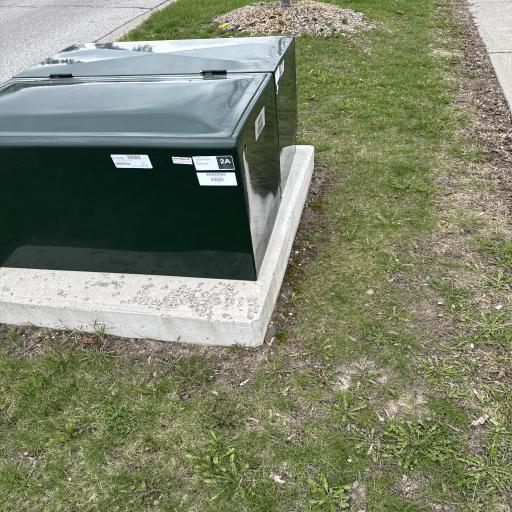Electrical Box: (3, 33, 297, 279)
